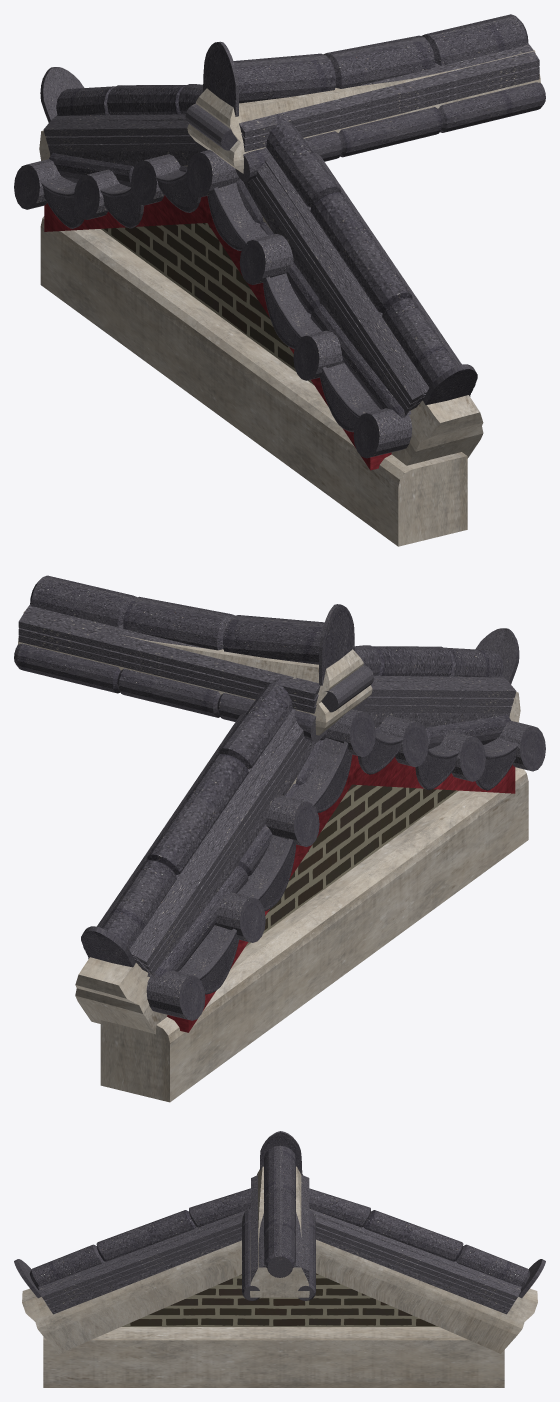
Rendered from SM_R_RoofOuter_8.fbx.
The picture shows the model from 3 angles, top to bottom: view 1: azimuth 30°, elevation 25°; view 2: azimuth 150°, elevation 25°; view 3: azimuth 270°, elevation 25°; orthographic projection. The views are drawn at different scales.
Parts seen in each view (by area): view 1: SM_R_RoofOuter_8; view 2: SM_R_RoofOuter_8; view 3: SM_R_RoofOuter_8.
Boxes of the visible parts, x1,y1,x2,y2 form: SM_R_RoofOuter_8: [14, 14, 545, 546]; SM_R_RoofOuter_8: [14, 575, 545, 1102]; SM_R_RoofOuter_8: [14, 1131, 545, 1387].
Size of the model in its own units: 257 by 560 by 276.
Materials: 3 (3 with a texture image).
